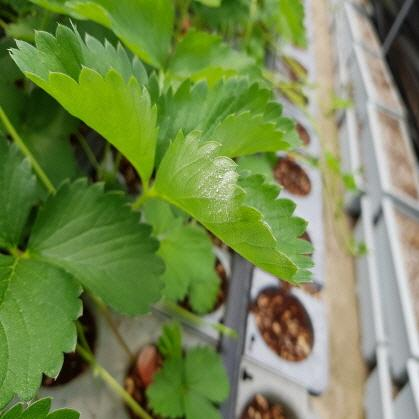Powdery Mildew Leaf: (153, 126, 316, 288)
